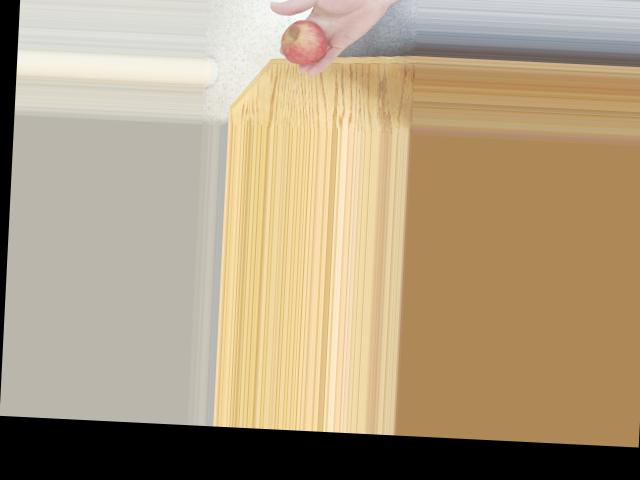apple: (279, 14, 335, 66)
